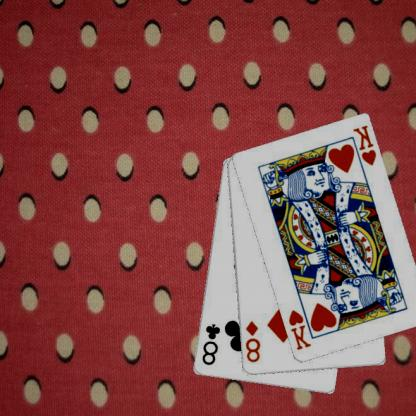8C: (200, 321, 223, 367)
8D: (245, 318, 263, 364)
KH: (352, 122, 380, 167), (287, 307, 314, 352)
